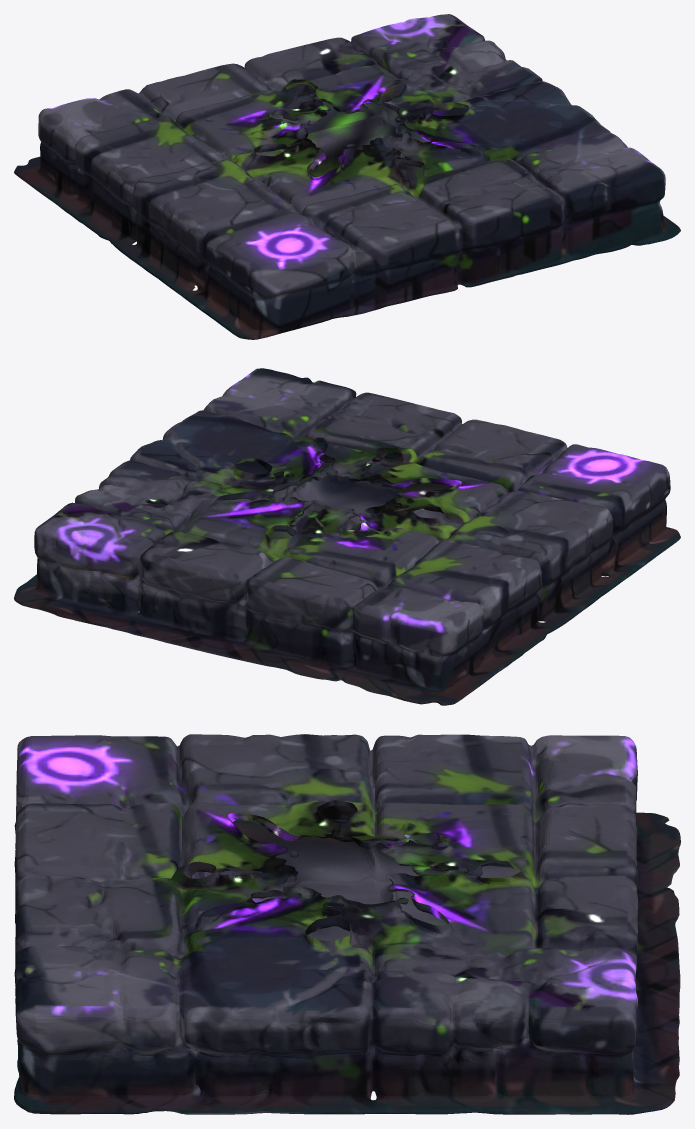
File: hex_plate.glb
3 renders of one model, top to bottom at view 1: azimuth 30°, elevation 25°; view 2: azimuth 150°, elevation 25°; view 3: azimuth 270°, elevation 25°, orthographic. The views are drawn at different scales.
Visible parts, largest first — view 1: hex_plate; view 2: hex_plate; view 3: hex_plate.
Boxes of the visible parts, <box> form: hex_plate: <box>14,14,680,339</box>; hex_plate: <box>14,368,680,705</box>; hex_plate: <box>14,734,680,1114</box>.
Bounding box in the file's own units: 2 × 0.3245 × 1.88.
1 material, 1 textured.
